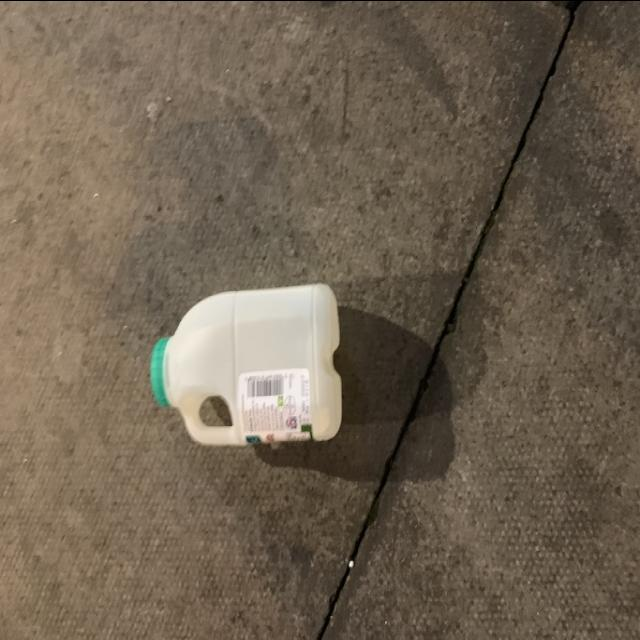HDPEM: (147, 273, 345, 447)
